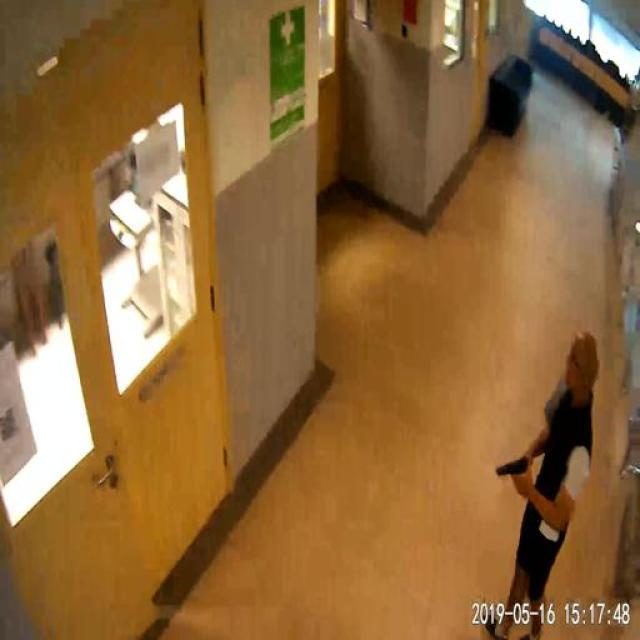Gun: (491, 447, 543, 491)
